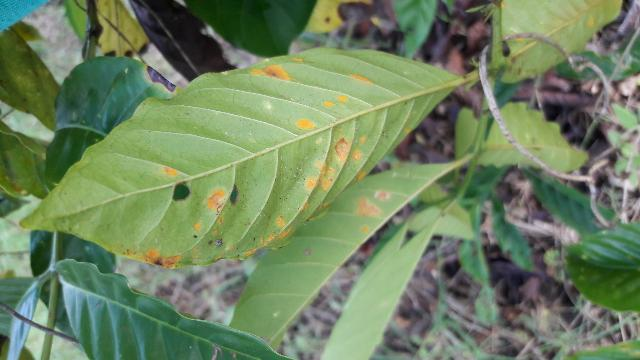rust_level_2: (20, 51, 459, 268)
